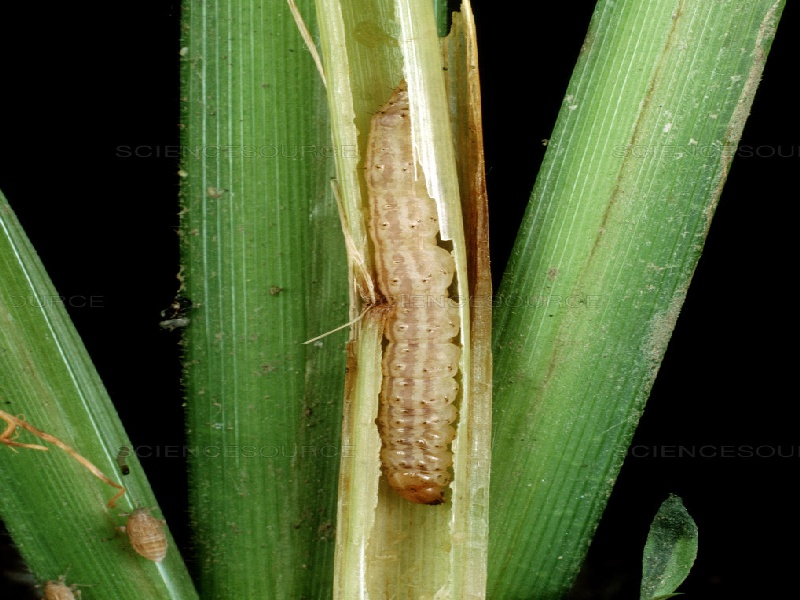Yellow_Stem_Borer: (333, 88, 488, 504)
